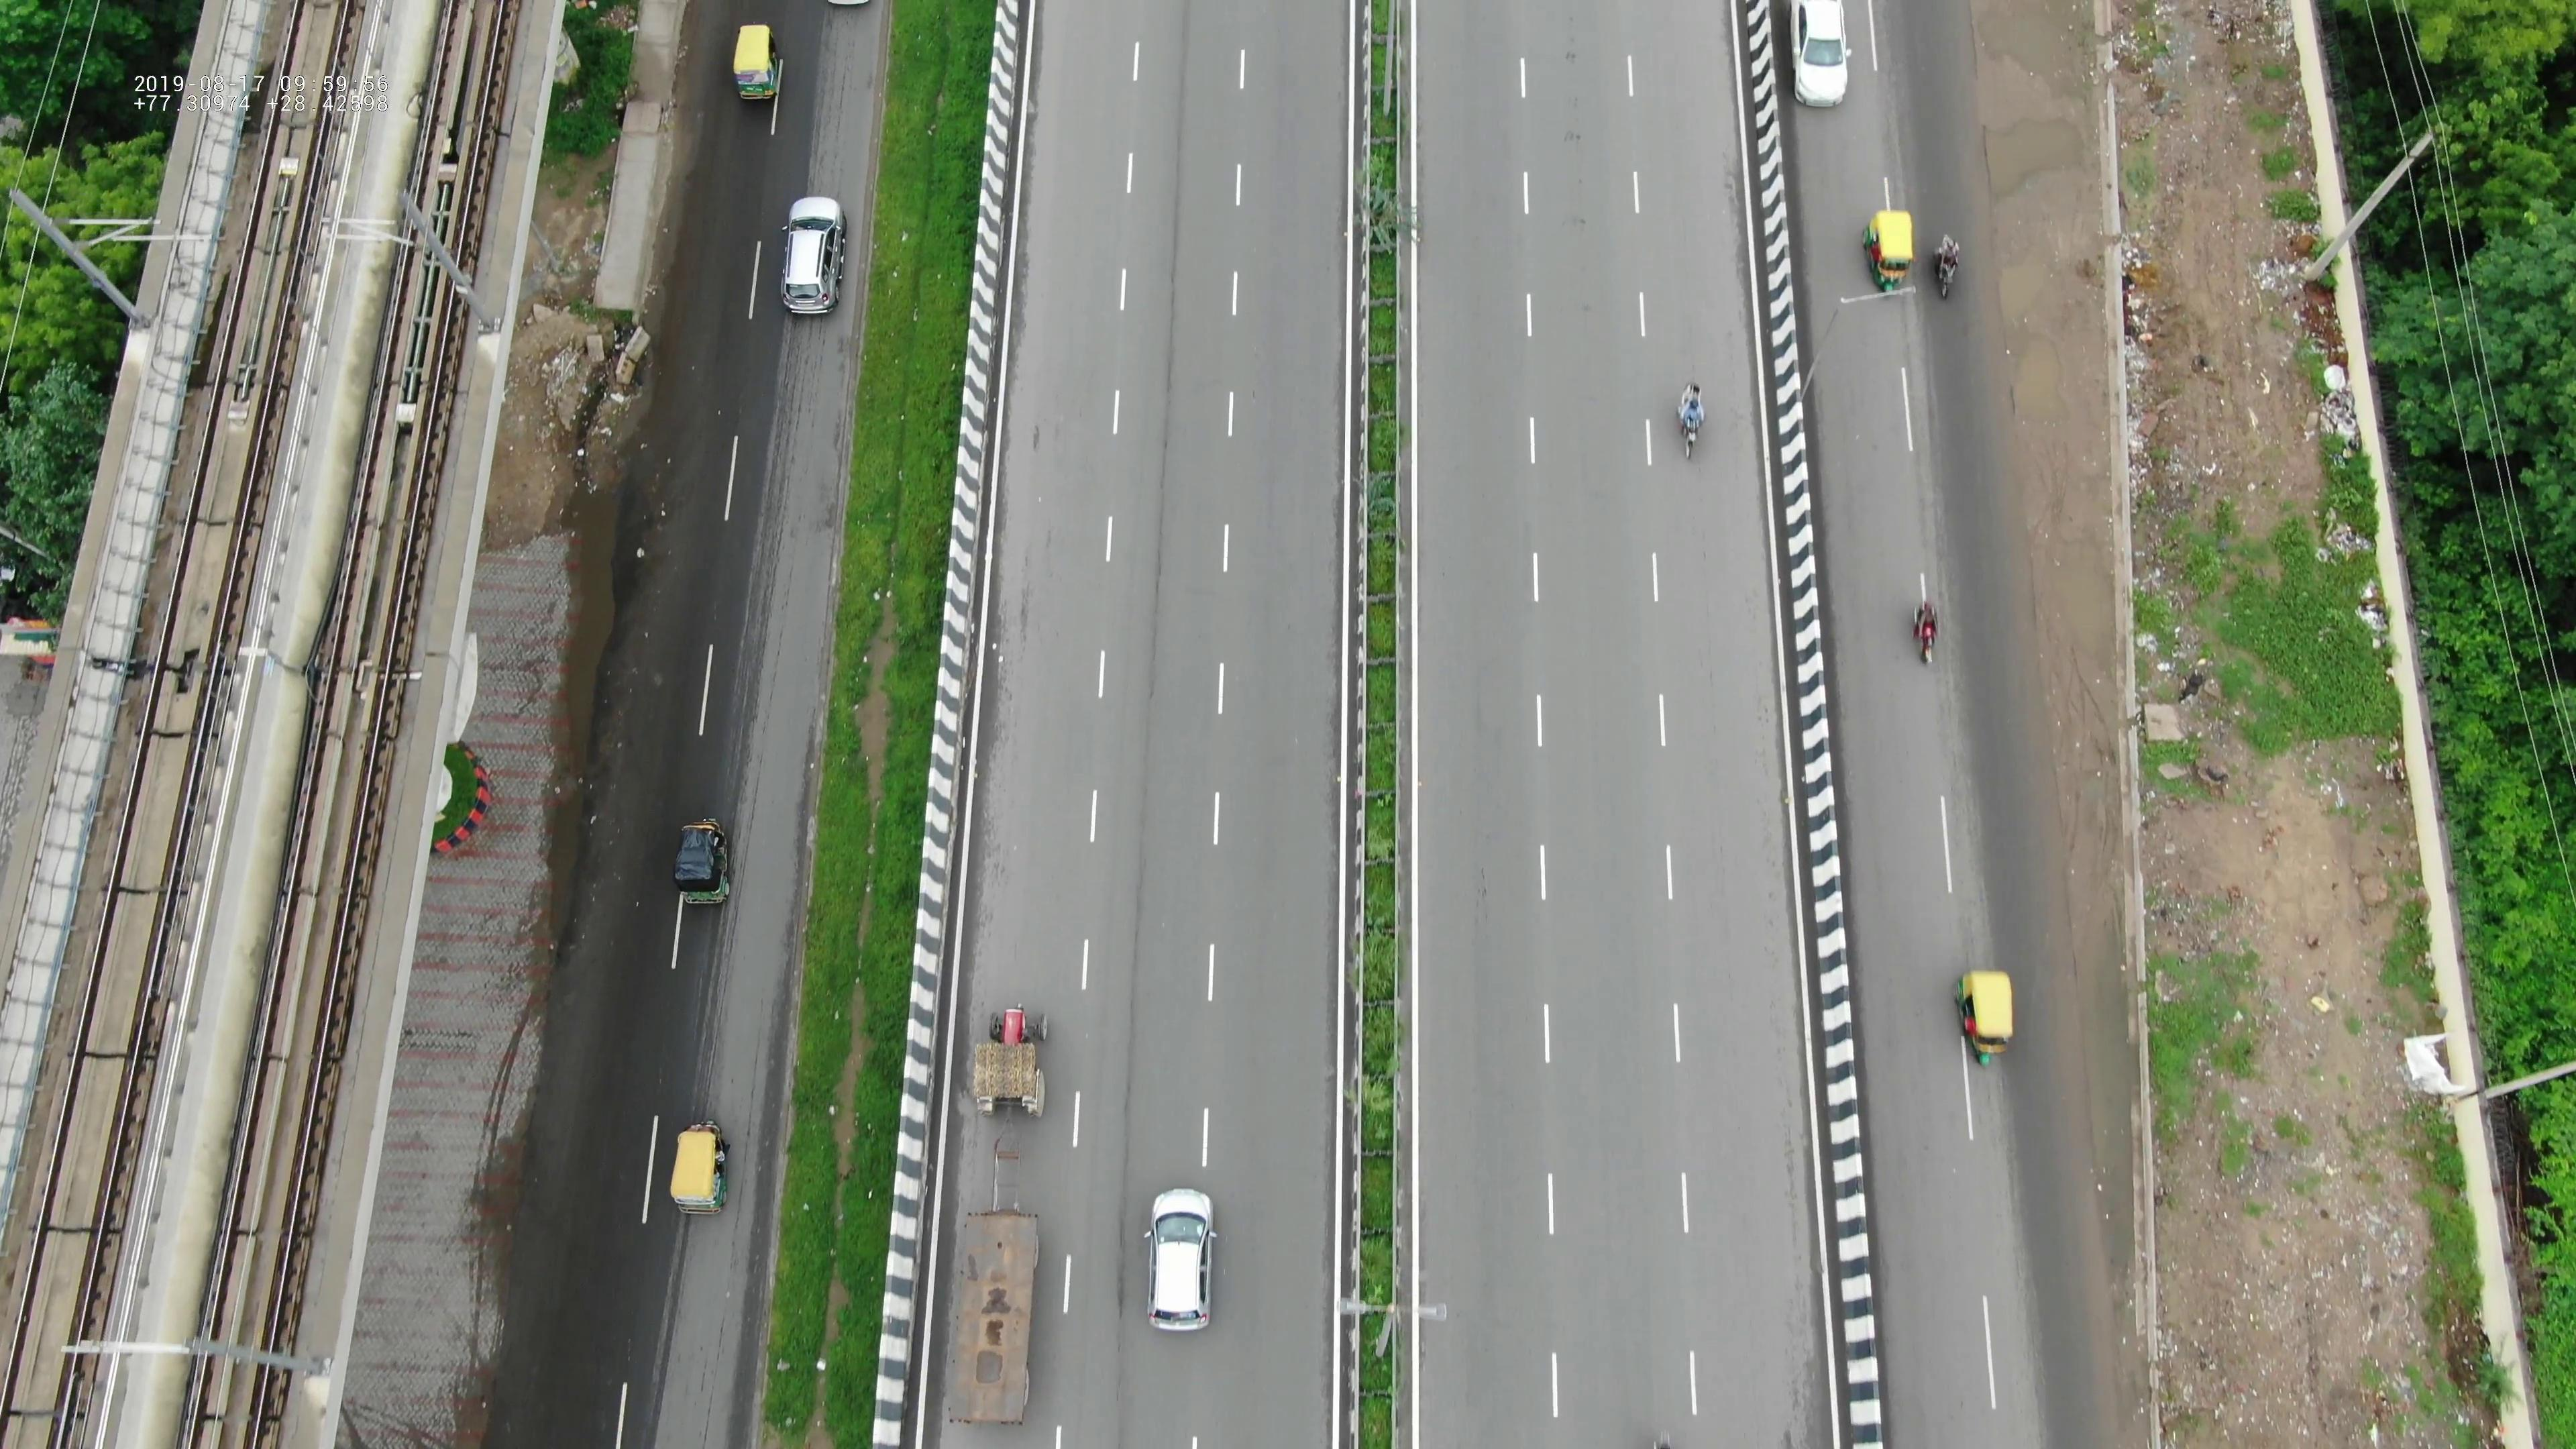Ravelling: (1125, 154, 1198, 807), (1100, 980, 1141, 1299)
Waterlogging: (1973, 92, 2118, 472), (2074, 939, 2143, 1295), (557, 518, 640, 715), (540, 814, 616, 966)
